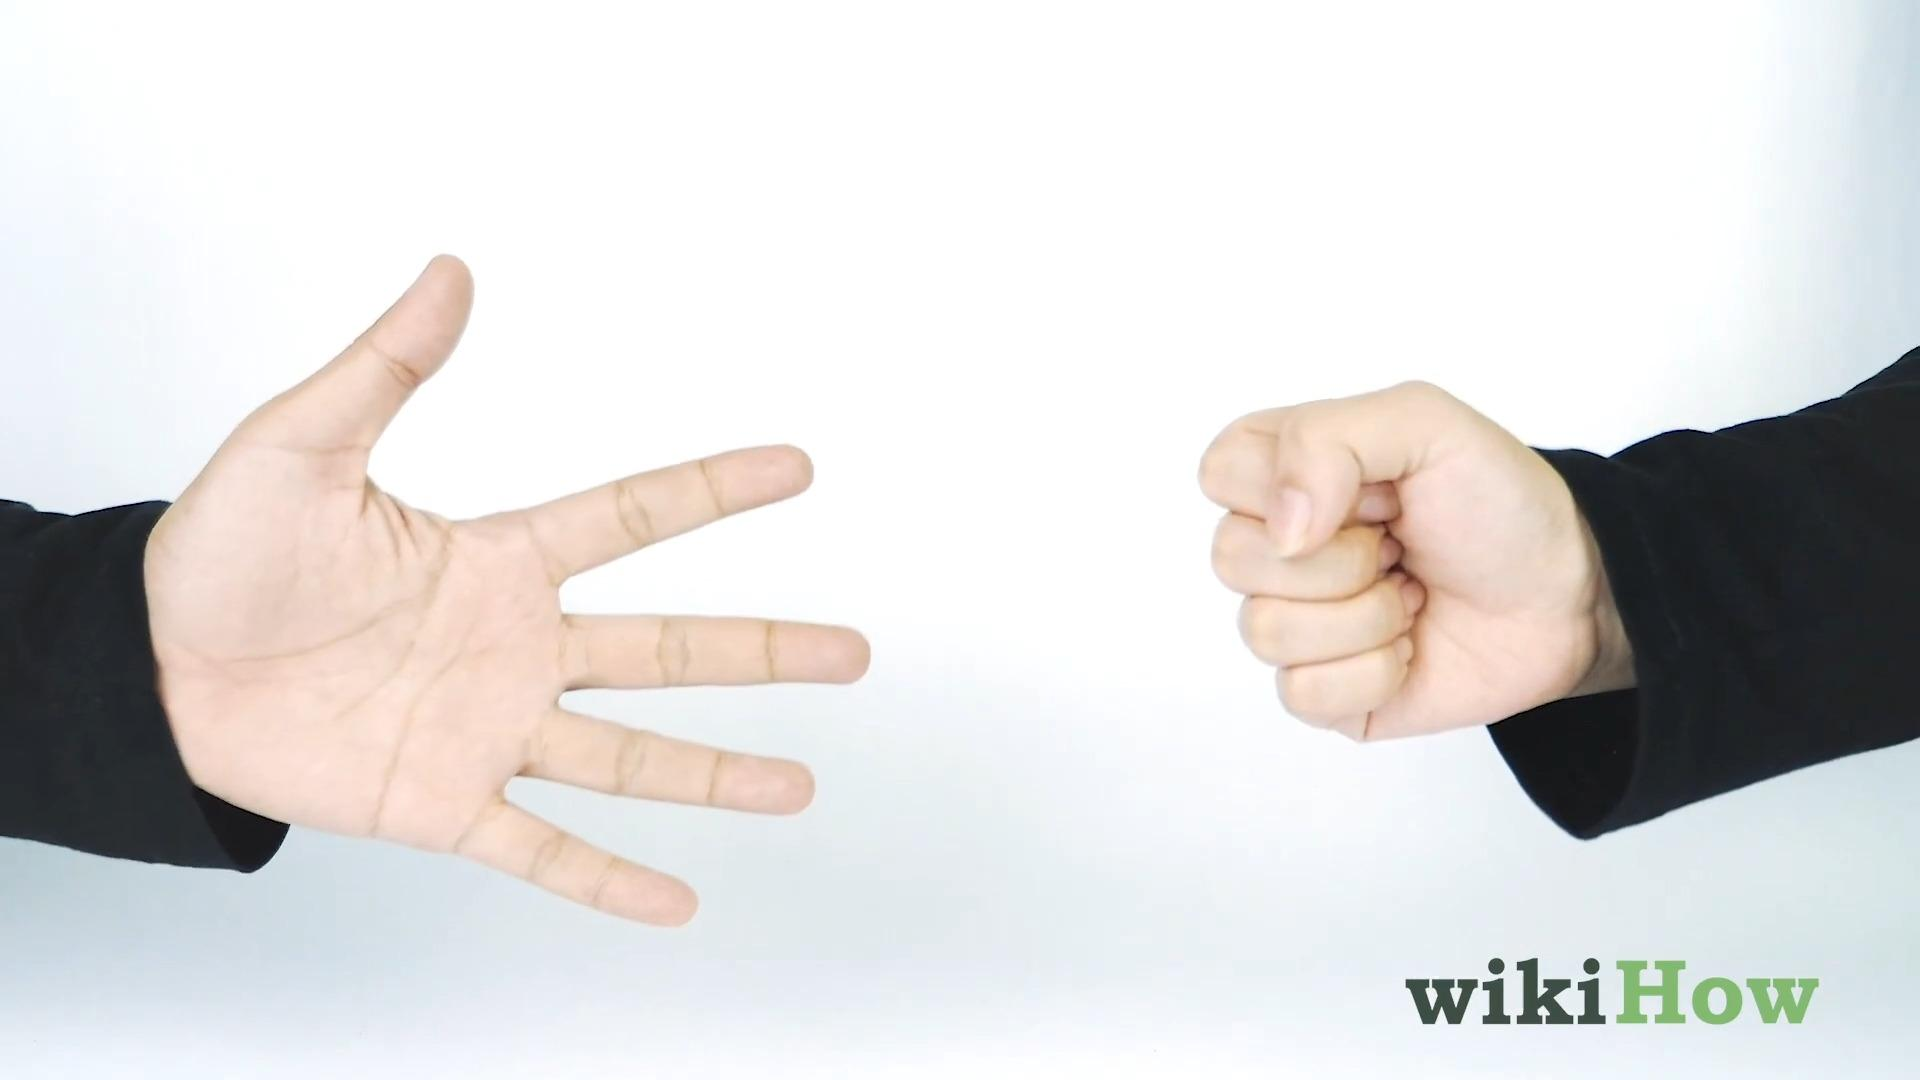Paper: (148, 257, 873, 926)
Rock: (1197, 371, 1600, 744)
